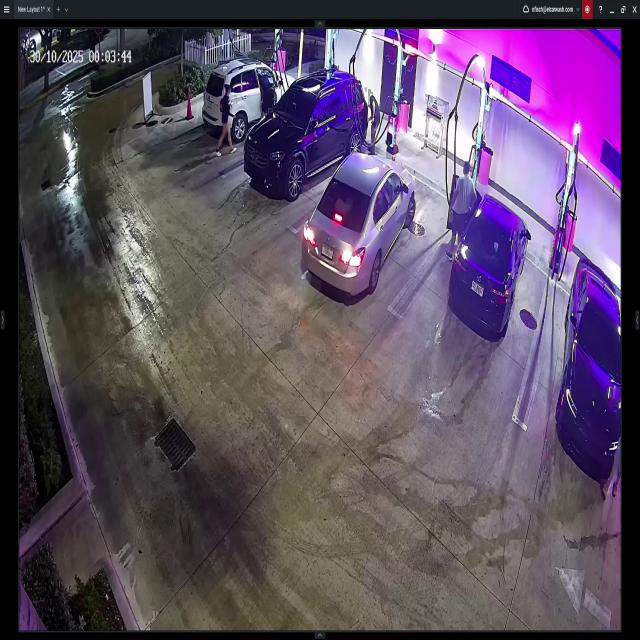Car: (304, 147, 416, 294), (243, 67, 368, 198), (556, 259, 622, 466), (454, 175, 529, 337), (202, 60, 301, 141)
